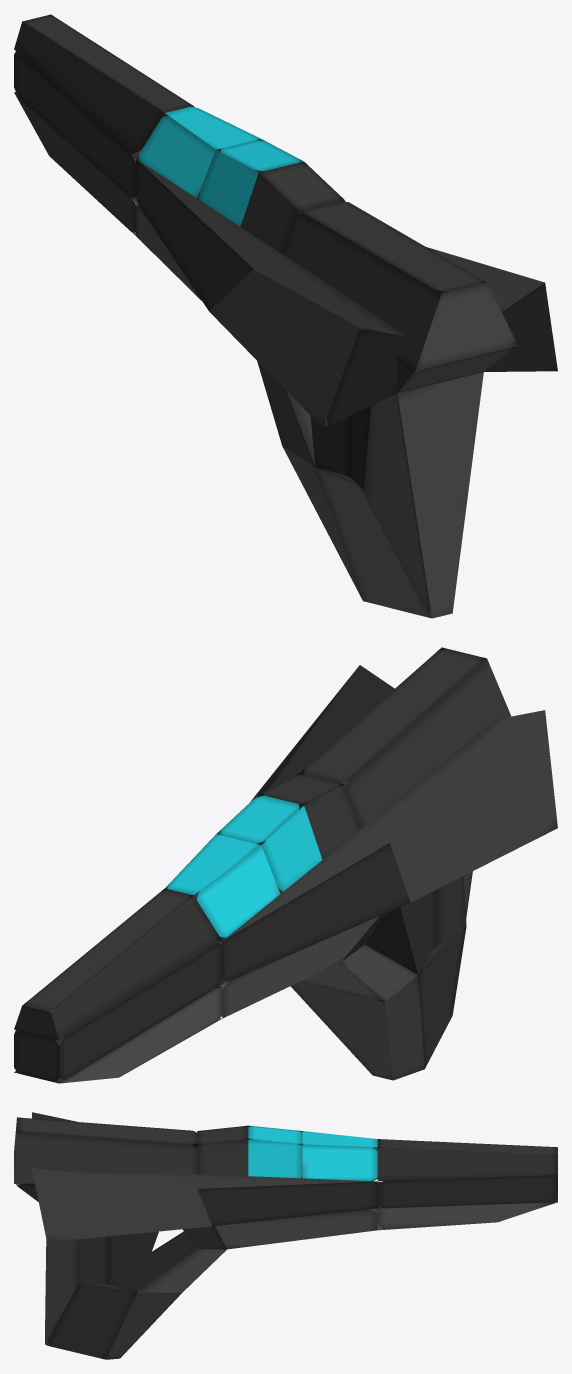
File: pistol.fbx
3 renders of one model, top to bottom at view 1: azimuth 30°, elevation 25°; view 2: azimuth 150°, elevation 25°; view 3: azimuth 270°, elevation 25°, orthographic. The views are drawn at different scales.
Visible parts, largest first — view 1: cuboid_14, cuboid_15, cuboid_12, cuboid_9, cuboid_3, cuboid_13, cuboid_8, cuboid_7, cuboid_11, cuboid, cuboid_10, cuboid_6 (+4 smaller); view 2: cuboid_14, cuboid_15, cuboid_9, cuboid_7, cuboid_4, cuboid, cuboid_8, cuboid_10, cuboid_5, cuboid_13, cuboid_6, cuboid_11 (+2 smaller); view 3: cuboid_13, cuboid_15, cuboid_9, cuboid, cuboid_7, cuboid_3, cuboid_5, cuboid_8, cuboid_6, cuboid_10, cuboid_12, cuboid_11 (+2 smaller).
Part boxes in pixels (x1=…): cuboid_14: x1=136, y1=159, x2=409, y2=427; cuboid_15: x1=282, y1=201, x2=517, y2=370; cuboid_12: x1=363, y1=372, x2=483, y2=618; cuboid_9: x1=14, y1=14, x2=193, y2=153; cuboid_3: x1=317, y1=468, x2=431, y2=618; cuboid_13: x1=426, y1=247, x2=557, y2=371; cuboid_8: x1=136, y1=106, x2=263, y2=199; cuboid_7: x1=14, y1=51, x2=167, y2=197; cuboid_11: x1=240, y1=162, x2=345, y2=253; cuboid: x1=257, y1=361, x2=349, y2=476; cuboid_10: x1=199, y1=139, x2=304, y2=226; cuboid_6: x1=14, y1=92, x2=137, y2=235; cuboid_14: x1=222, y1=710, x2=557, y2=982; cuboid_15: x1=300, y1=647, x2=511, y2=827; cuboid_9: x1=14, y1=889, x2=216, y2=1040; cuboid_7: x1=14, y1=940, x2=222, y2=1082; cuboid_4: x1=290, y1=960, x2=424, y2=1080; cuboid: x1=300, y1=890, x2=436, y2=1001; cuboid_8: x1=162, y1=834, x2=280, y2=940; cuboid_10: x1=216, y1=794, x2=322, y2=893; cuboid_5: x1=217, y1=916, x2=378, y2=1018; cuboid_13: x1=250, y1=665, x2=394, y2=801; cuboid_6: x1=54, y1=983, x2=222, y2=1083; cuboid_11: x1=259, y1=773, x2=361, y2=859; cuboid_13: x1=32, y1=1167, x2=377, y2=1242; cuboid_15: x1=14, y1=1117, x2=197, y2=1183; cuboid_9: x1=377, y1=1139, x2=557, y2=1181; cuboid: x1=107, y1=1226, x2=227, y2=1292; cuboid_7: x1=377, y1=1175, x2=557, y2=1208; cuboid_3: x1=45, y1=1282, x2=136, y2=1359; cuboid_5: x1=215, y1=1208, x2=377, y2=1249; cuboid_8: x1=302, y1=1131, x2=377, y2=1180; cuboid_6: x1=377, y1=1182, x2=557, y2=1230; cuboid_10: x1=248, y1=1125, x2=302, y2=1178; cuboid_12: x1=45, y1=1239, x2=79, y2=1344; cuboid_11: x1=197, y1=1125, x2=248, y2=1176.
Bounding box in the file's own units: 17.81 × 26.51 × 56.56.
1 material, 1 textured.
